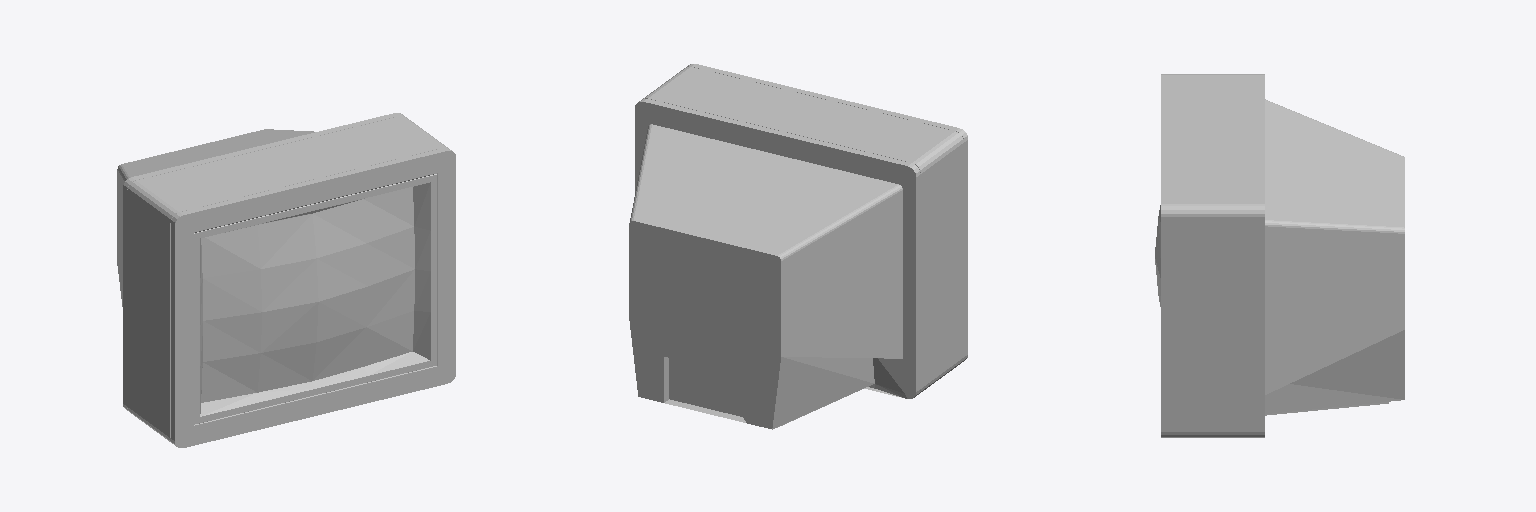
3 renders of one model, left to right at view 1: azimuth 30°, elevation 25°; view 2: azimuth 150°, elevation 25°; view 3: azimuth 270°, elevation 25°, orthographic.
Visible parts, largest first — view 1: TV; view 2: TV; view 3: TV.
Boxes of the visible parts, x1=… form: TV: x1=117, y1=113, x2=455, y2=447; TV: x1=629, y1=64, x2=967, y2=429; TV: x1=1155, y1=74, x2=1404, y2=437.
Bounding box in the file's own units: 0.3036 × 0.2399 × 0.234.